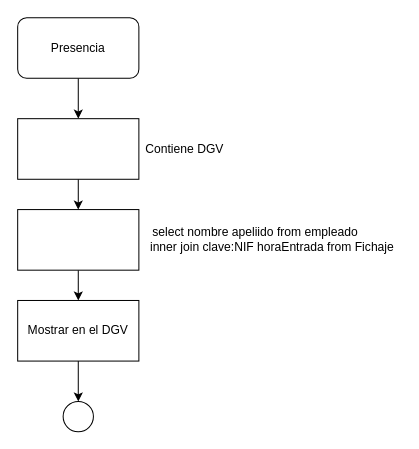
The diagram is 419 pixels wide and 449 high, and some of its shapes have lost their labels. The shapes that lost their labels are listed below. From the top down, each one's box as (x1, y1, x2, y2) in pixels, then its label:
(17, 118, 139, 179): Instancia Form2 Abre form2
(17, 209, 139, 270): ObtenerEmpleados() Select->Emp
